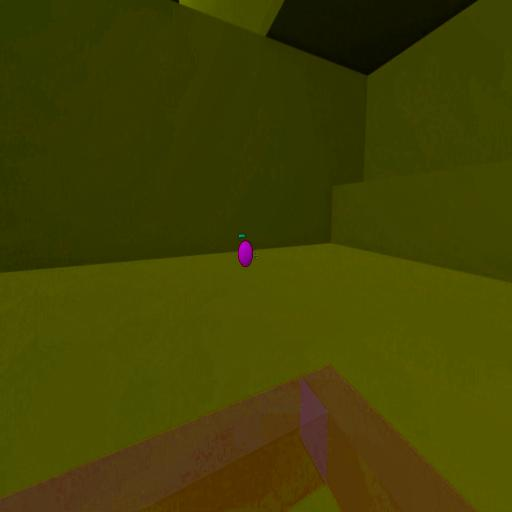Crosshair: (253, 251, 260, 261)
Target: (238, 241, 253, 267)
